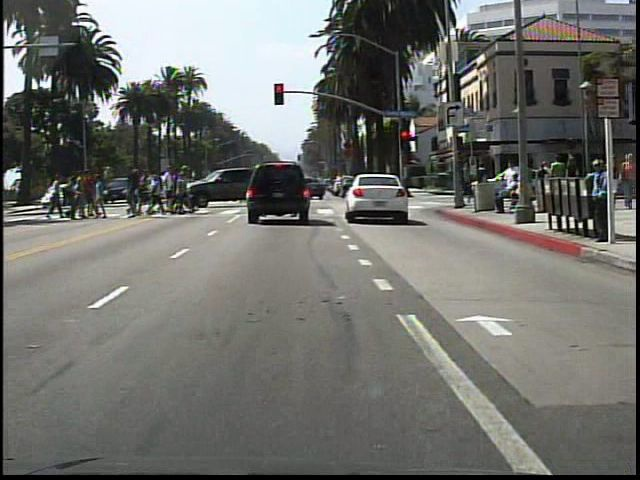person: (583, 156, 610, 245), (617, 151, 635, 212)
